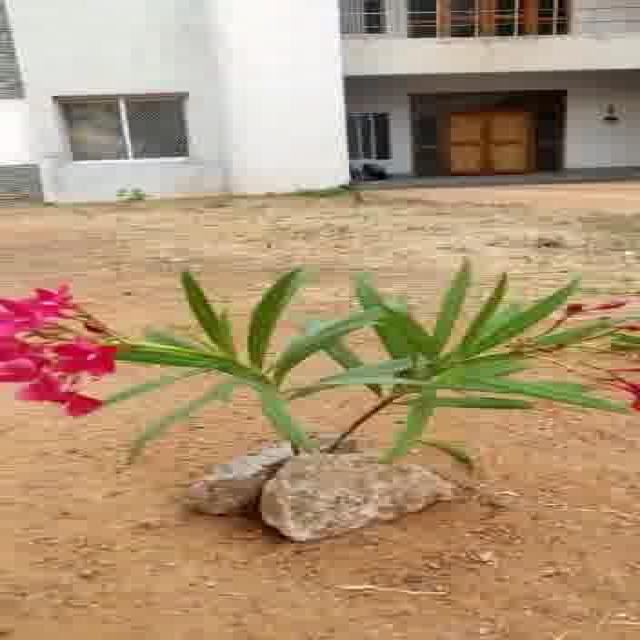Oleander: (0, 261, 613, 430)
